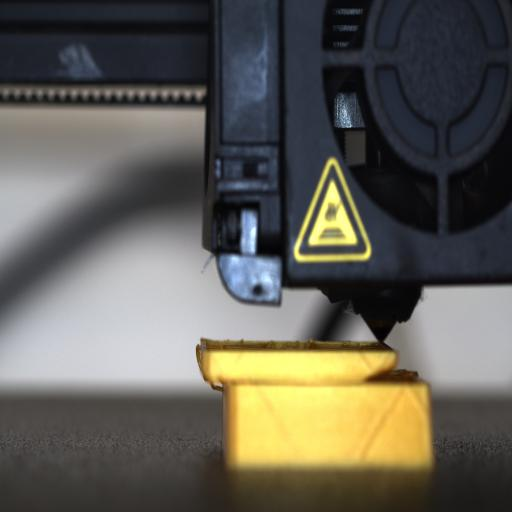layer_shift: (196, 359, 434, 394)
